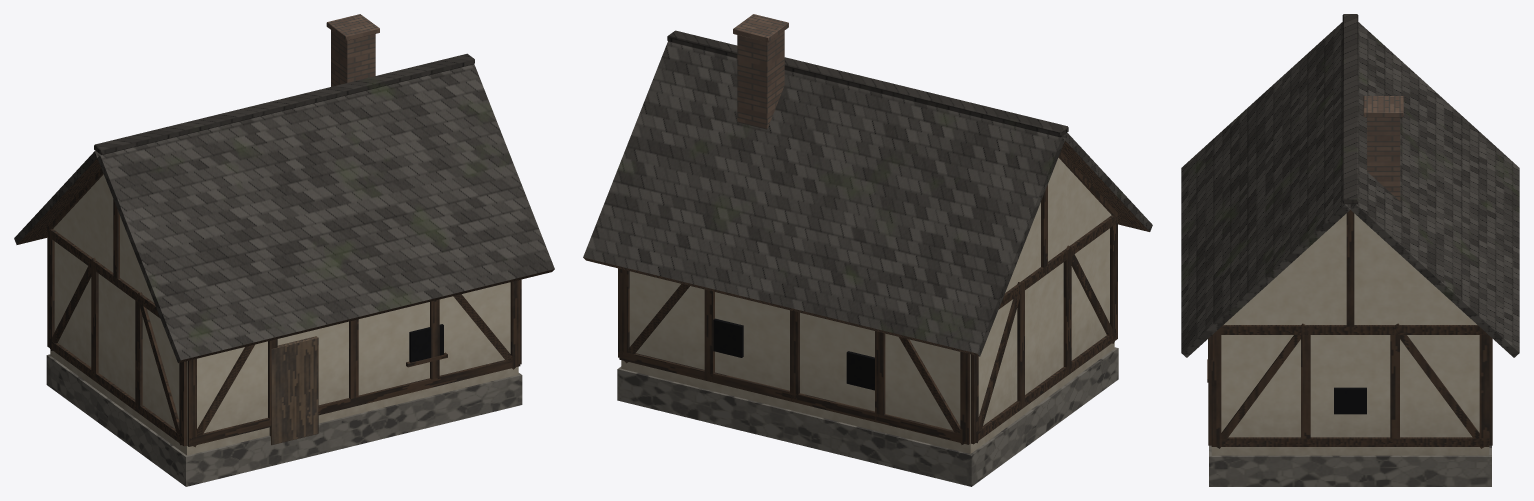
The model's file is SM_House_A.glb.
The picture shows the model from 3 angles, left to right: view 1: azimuth 30°, elevation 25°; view 2: azimuth 150°, elevation 25°; view 3: azimuth 270°, elevation 25°; orthographic projection. The views are drawn at different scales.
Visible parts, largest first — view 1: SM_House_A; view 2: SM_House_A; view 3: SM_House_A.
Boxes of the visible parts, box(x1,y1,x2,y2) form: SM_House_A: box(14, 14, 554, 486); SM_House_A: box(583, 14, 1152, 486); SM_House_A: box(1181, 14, 1519, 486).
Size of the model in its own units: 7.9 by 6.8 by 6.1.
1 material, 1 textured.
